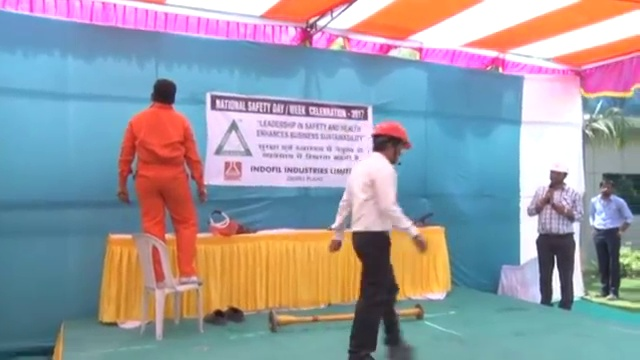helmet: (369, 118, 414, 147), (549, 161, 570, 175)
helmet_off: (150, 77, 176, 107), (597, 176, 615, 197)
helmet_on: (361, 118, 415, 168), (546, 161, 571, 191)
person: (329, 119, 426, 360), (114, 78, 210, 287), (526, 163, 583, 313), (586, 176, 633, 301)
